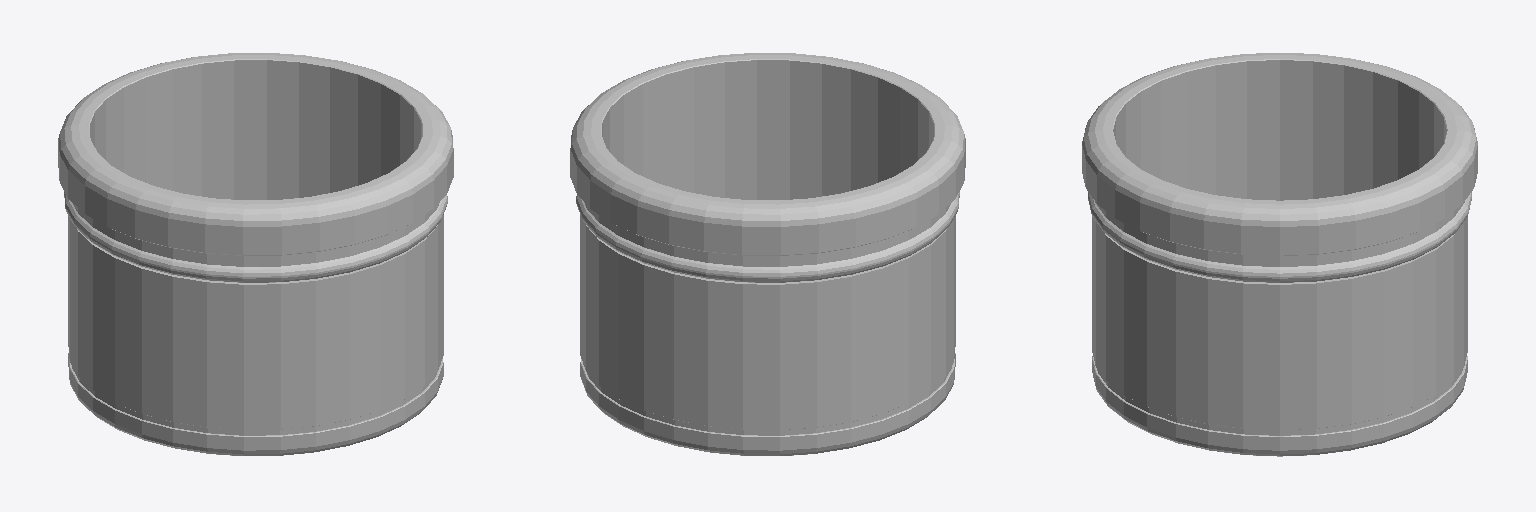
Rendered from SetA_Container_Style_18.obj.
3 views of the same model, side by side, from view 1: azimuth 30°, elevation 25°; view 2: azimuth 150°, elevation 25°; view 3: azimuth 270°, elevation 25° (orthographic).
Parts seen in each view (by area): view 1: SetA_Container_Style_18; view 2: SetA_Container_Style_18; view 3: SetA_Container_Style_18.
Part boxes in pixels (x1,y1,x2,y2): SetA_Container_Style_18: (58, 53, 453, 455); SetA_Container_Style_18: (570, 53, 965, 455); SetA_Container_Style_18: (1082, 53, 1477, 456).
Size of the model in its own units: 0.1978 by 0.1391 by 0.1978.